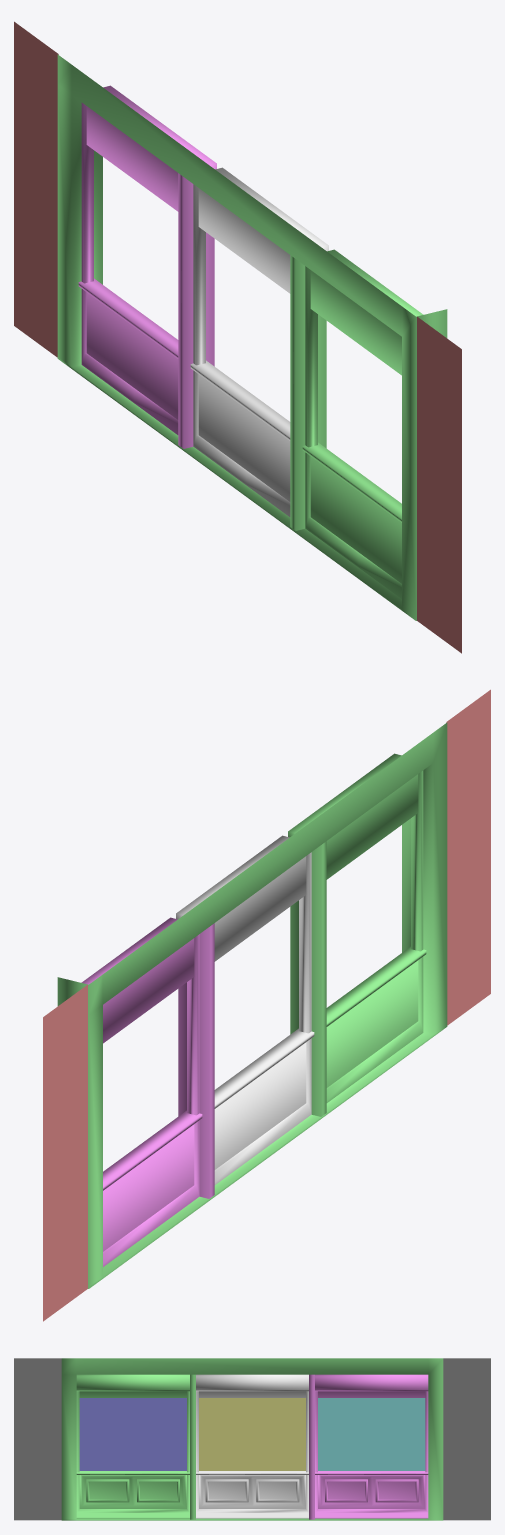
File: SM_shopFront_03b.gltf
The picture shows the model from 3 angles, top to bottom: view 1: azimuth 30°, elevation 25°; view 2: azimuth 150°, elevation 25°; view 3: azimuth 270°, elevation 25°; orthographic projection. The views are drawn at different scales.
Visible parts, largest first — view 1: SM_shopFront_03b; view 2: SM_shopFront_03b; view 3: SM_shopFront_03b.
Boxes of the visible parts, x1=… form: SM_shopFront_03b: x1=14, y1=21, x2=461, y2=653; SM_shopFront_03b: x1=43, y1=689, x2=490, y2=1321; SM_shopFront_03b: x1=14, y1=1358, x2=490, y2=1520.
Size of the model in its own units: 0.4 by 3 by 8.
